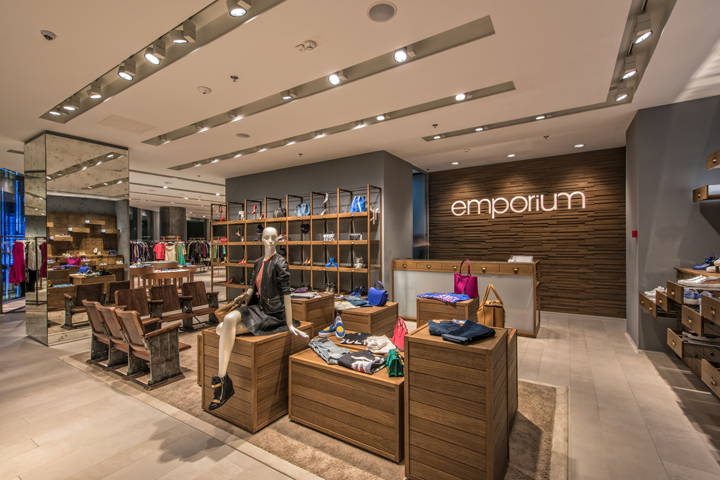Not_Face: (262, 229, 280, 249)
